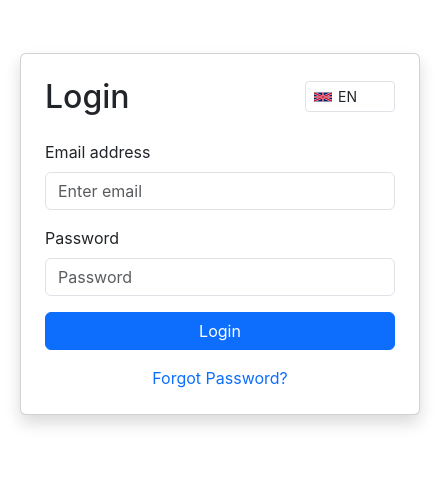
Test case: Login Component › displays error message on login failure
Type "test@example.com" into the field labelled "Email address". click: (220, 191)
box: [45,172,395,210]
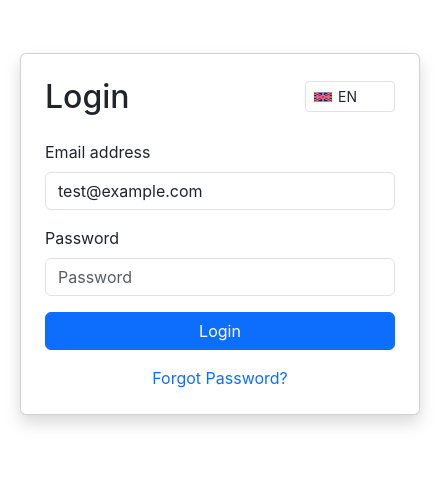
Type "wrongpassword" into the password field labelled "Password". click: (220, 277)
box: [45,258,395,296]
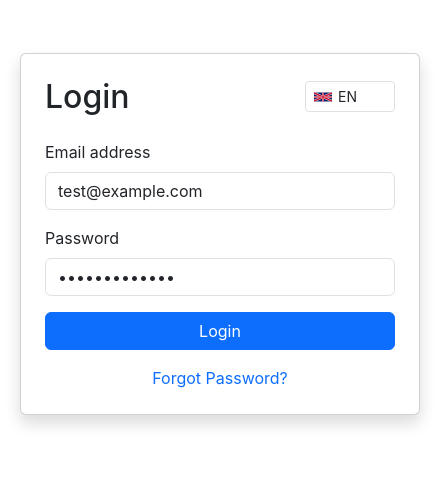
Click the button "Login". click: (220, 331)
box: [45,312,395,350]
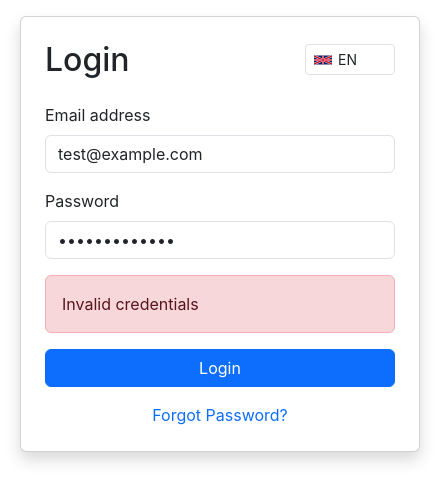
expect the text "Invalid credentials" is shown: met, box [45,275,395,333]
